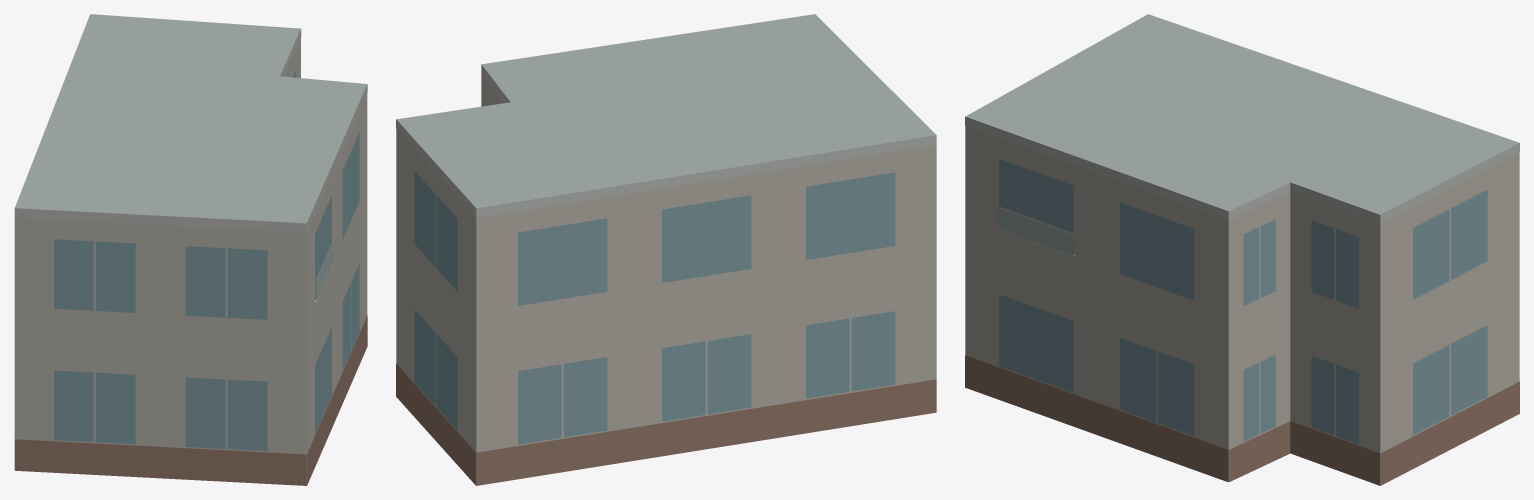
Rendered from survey-upis-32511326.glb.
3 renders of one model, left to right at view 1: azimuth 30°, elevation 25°; view 2: azimuth 150°, elevation 25°; view 3: azimuth 270°, elevation 25°, orthographic. The views are drawn at different scales.
Visible parts, largest first — view 1: survey-upis-32511326.tmp; view 2: survey-upis-32511326.tmp; view 3: survey-upis-32511326.tmp.
Boxes of the visible parts, bbox=[...] form: survey-upis-32511326.tmp: bbox=[14, 14, 367, 485]; survey-upis-32511326.tmp: bbox=[396, 14, 936, 485]; survey-upis-32511326.tmp: bbox=[965, 14, 1519, 485].
Bounding box in the file's own units: 11.3 × 7.1 × 13.18.
